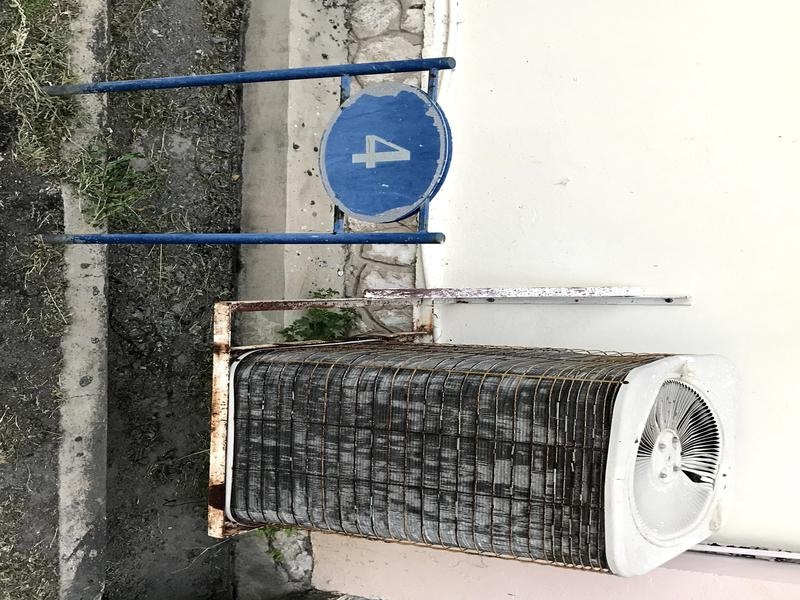18.0053530_-76.7490375_signatentrancetoscitech: (10, 44, 469, 273)
